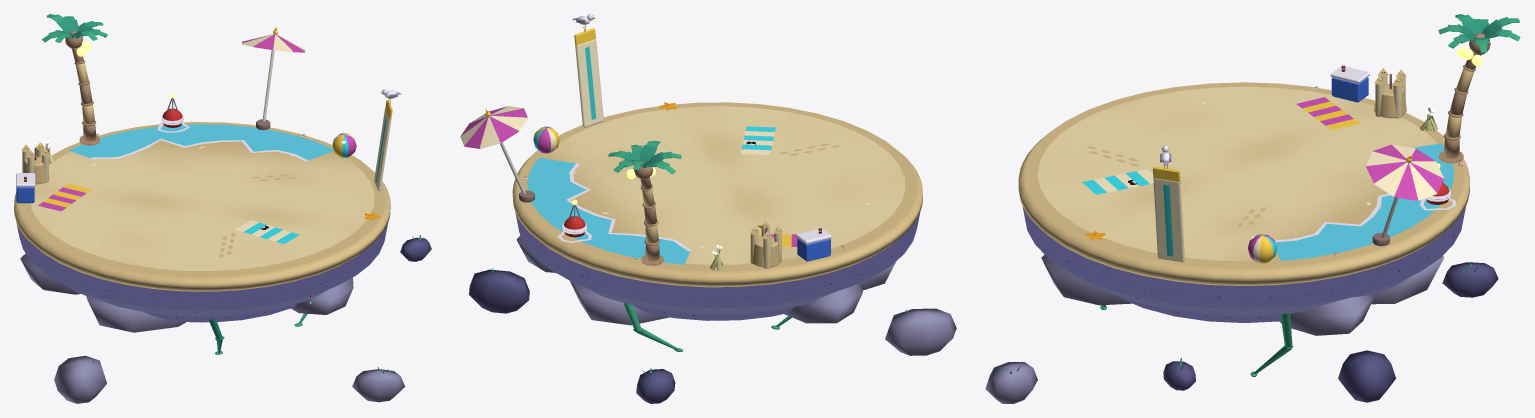
Rendered from arena_beach.glb.
3 renders of one model, left to right at view 1: azimuth 30°, elevation 25°; view 2: azimuth 150°, elevation 25°; view 3: azimuth 270°, elevation 25°, orthographic. The views are drawn at different scales.
Visible parts, largest first — view 1: Sand, Body, Rim, Water, Chunks, Marks; view 2: Sand, Body, Rim, Chunks, Water, Marks; view 3: Sand, Body, Rim, Chunks, Water, Marks.
Boxes of the visible parts, bbox=[...] form: Sand: bbox=[30, 140, 374, 270]; Body: bbox=[14, 122, 390, 354]; Rim: bbox=[16, 14, 401, 212]; Water: bbox=[68, 124, 333, 161]; Chunks: bbox=[54, 234, 431, 403]; Marks: bbox=[38, 146, 299, 257]; Sand: bbox=[542, 106, 905, 264]; Body: bbox=[512, 102, 922, 351]; Rim: bbox=[460, 14, 844, 270]; Chunks: bbox=[469, 268, 956, 403]; Water: bbox=[527, 157, 691, 264]; Marks: bbox=[573, 126, 870, 248]; Sand: bbox=[1037, 86, 1437, 261]; Body: bbox=[1018, 82, 1469, 376]; Rim: bbox=[1153, 14, 1520, 263]; Chunks: bbox=[985, 262, 1498, 403]; Water: bbox=[1274, 143, 1453, 260]; Marks: bbox=[1082, 97, 1370, 238].
Size of the model in its own units: 8.18 by 5.38 by 8.28.
